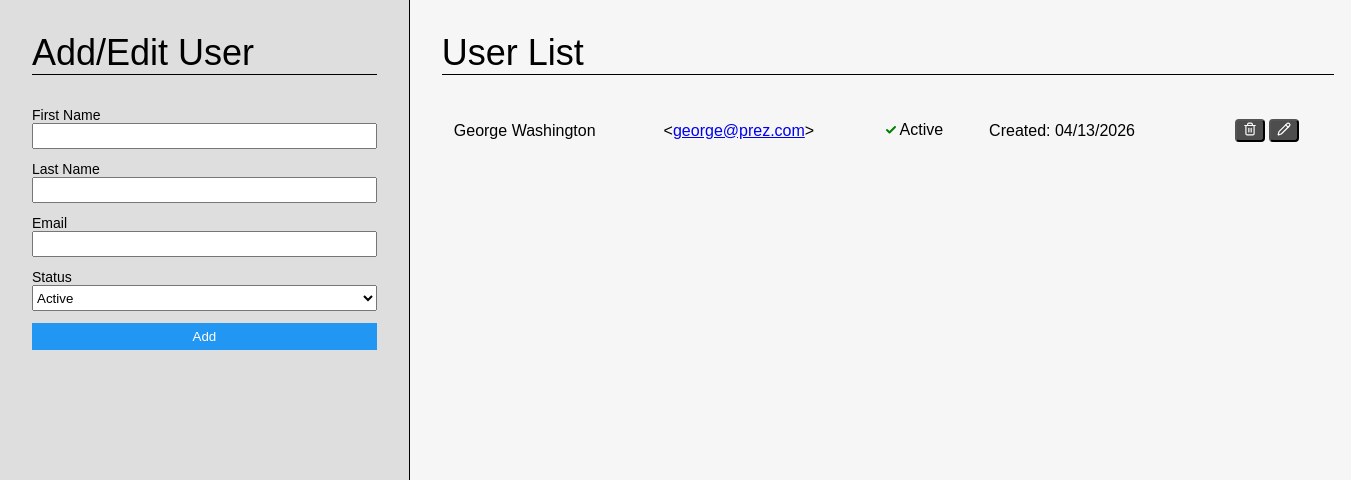
Test: UserList › should delete a user
This screenshot has width=1351, height=497.
Expected: the text "George Washington" is shown, [442, 107, 652, 154]
Click the button named "Delete user": (1250, 130) [1234, 119, 1264, 142]
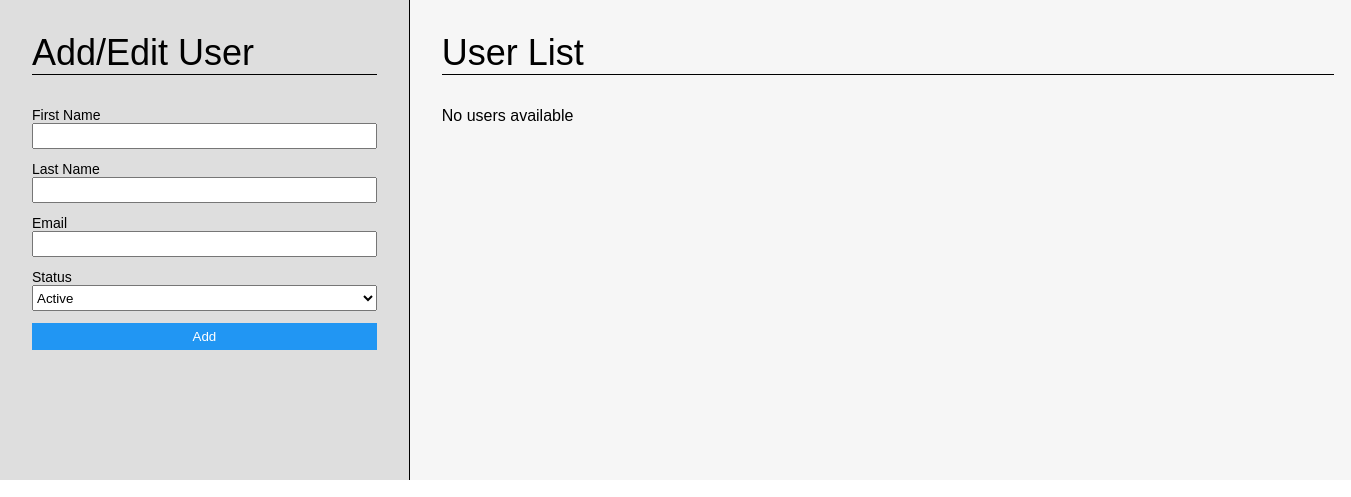
Expected: the text "George Washington" is gone
